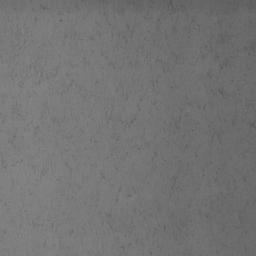Silk spot: (8, 0, 256, 256), (0, 0, 50, 63), (197, 158, 248, 218), (56, 0, 88, 24), (32, 157, 52, 185), (112, 186, 136, 205), (63, 32, 84, 45), (1, 158, 23, 169), (82, 50, 94, 66)
